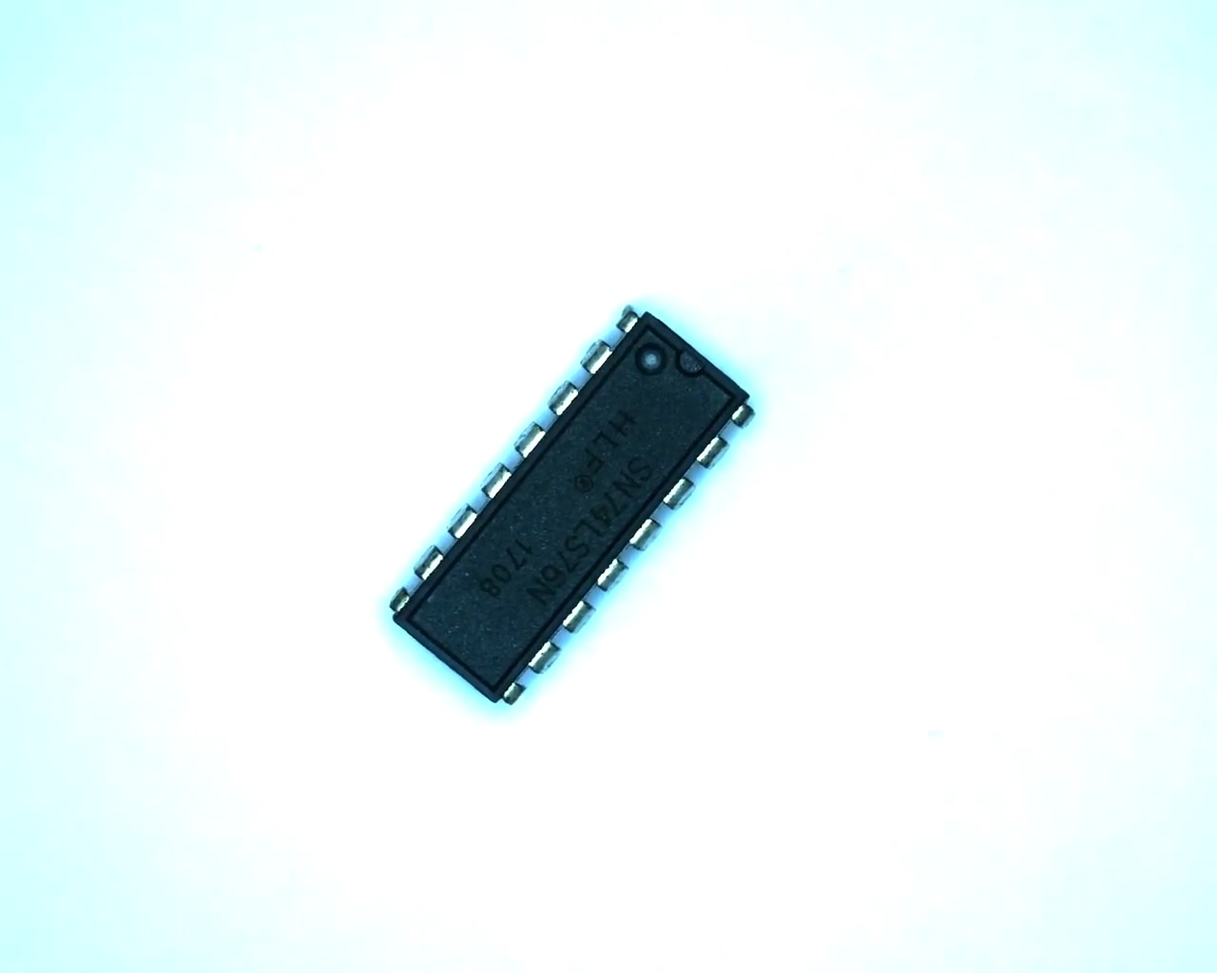IC: (367, 295, 777, 729)
notch: (668, 337, 713, 380)
